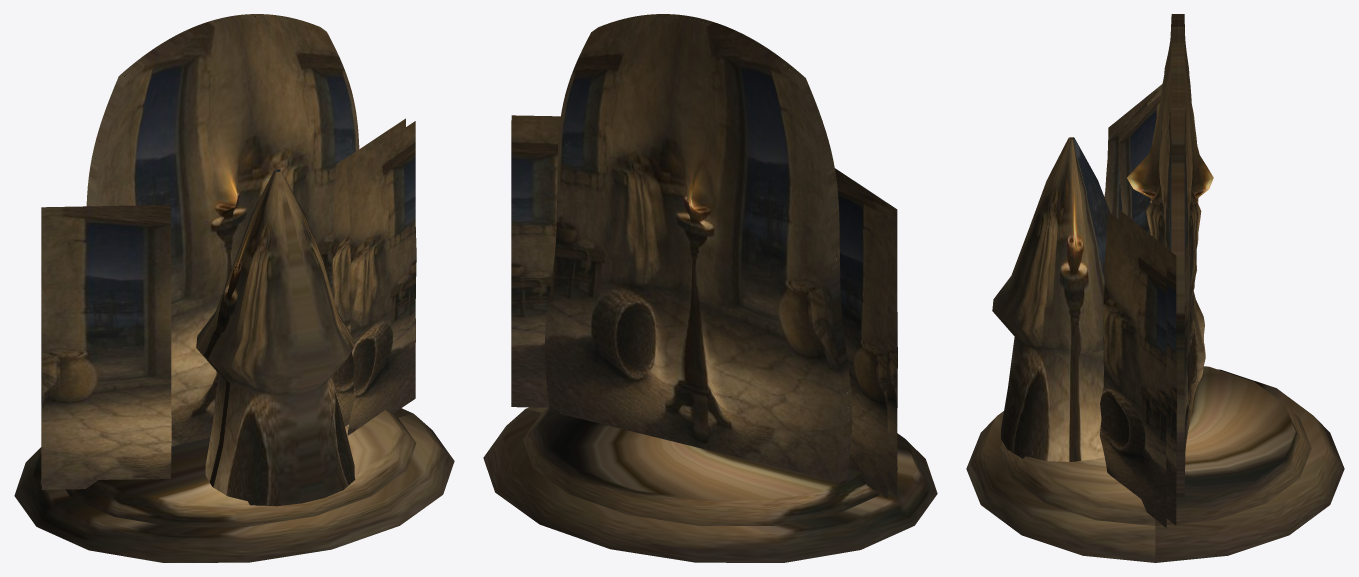
File: i-am-with-you-always-13.glb
3 renders of one model, left to right at view 1: azimuth 30°, elevation 25°; view 2: azimuth 150°, elevation 25°; view 3: azimuth 270°, elevation 25°, orthographic. The views are drawn at different scales.
Visible parts, largest first — view 1: PaintingSculptureMonument; view 2: PaintingSculptureMonument; view 3: PaintingSculptureMonument.
Boxes of the visible parts, left/top/right/bottom form: PaintingSculptureMonument: left=14, top=14, right=454, bottom=562; PaintingSculptureMonument: left=483, top=14, right=937, bottom=562; PaintingSculptureMonument: left=966, top=14, right=1344, bottom=562.
Bounding box in the file's own units: 2.76 × 2.99 × 2.35.
1 material, 1 textured.
